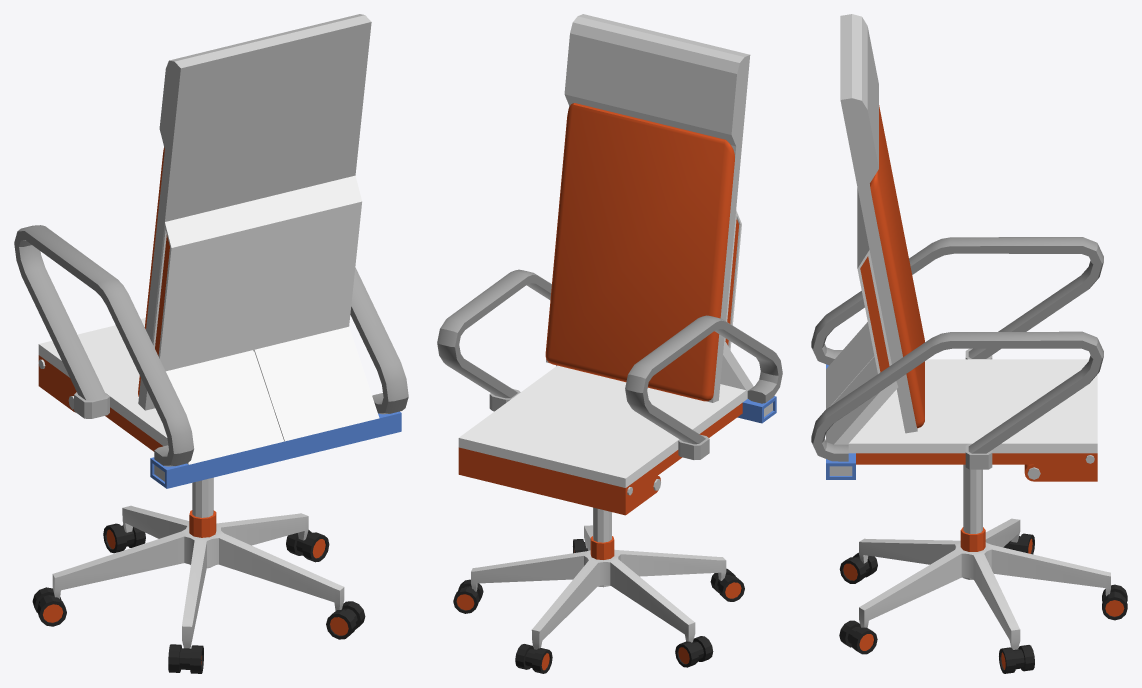
File: kursi 1.fbx
3 views of the same model, side by side, from view 1: azimuth 30°, elevation 25°; view 2: azimuth 150°, elevation 25°; view 3: azimuth 270°, elevation 25° (orthographic). The views are drawn at different scales.
Parts seen in each view (by area): view 1: Kursi, Kursi.001; view 2: Kursi, Kursi.001; view 3: Kursi, Kursi.001.
Part boxes in pixels (x1,y1,x2,y2): Kursi: [14, 14, 408, 488]; Kursi.001: [32, 477, 365, 673]; Kursi: [437, 14, 782, 515]; Kursi.001: [453, 507, 744, 673]; Kursi: [811, 14, 1103, 481]; Kursi.001: [839, 464, 1127, 673].
Bounding box in the file's own units: 77.86 × 158 × 81.28.
